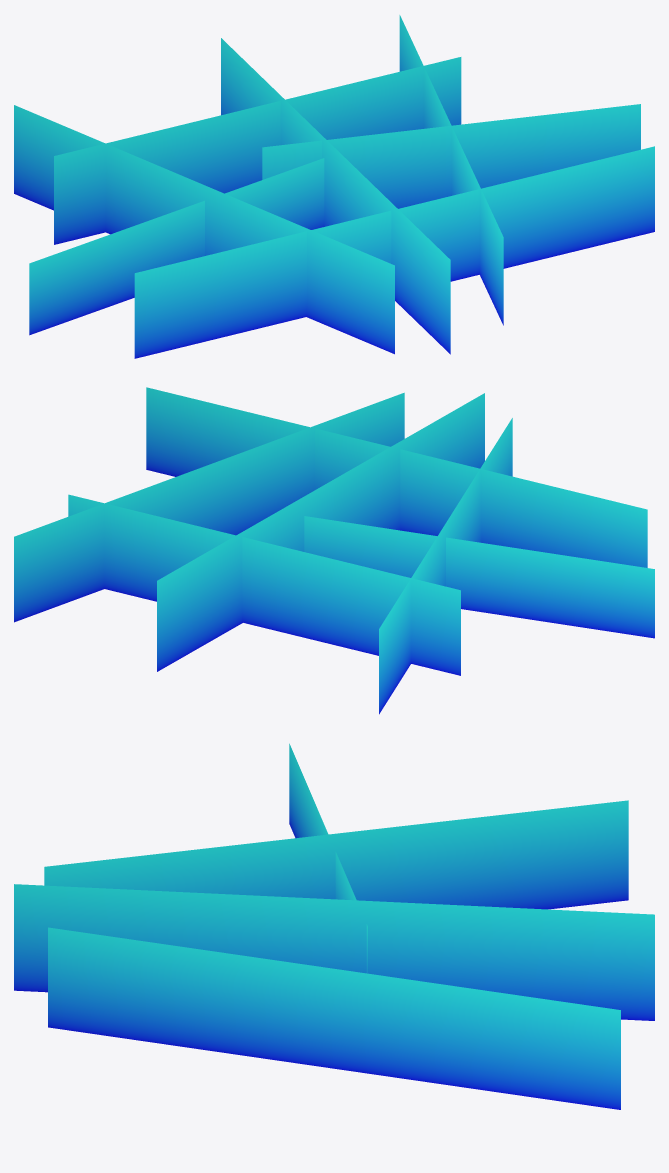
File: SM_Env_Grass_Short_Clump_02.gltf
3 renders of one model, top to bottom at view 1: azimuth 30°, elevation 25°; view 2: azimuth 150°, elevation 25°; view 3: azimuth 270°, elevation 25°, orthographic. The views are drawn at different scales.
Visible parts, largest first — view 1: SM_Env_Grass_Short_Clump_02_LOD0; view 2: SM_Env_Grass_Short_Clump_02_LOD0; view 3: SM_Env_Grass_Short_Clump_02_LOD0.
Part boxes in pixels (x1,y1,x2,y2): SM_Env_Grass_Short_Clump_02_LOD0: [14, 15, 654, 358]; SM_Env_Grass_Short_Clump_02_LOD0: [14, 387, 654, 714]; SM_Env_Grass_Short_Clump_02_LOD0: [14, 743, 654, 1109].
Size of the model in its own units: 1.79 by 0.2664 by 1.45.
